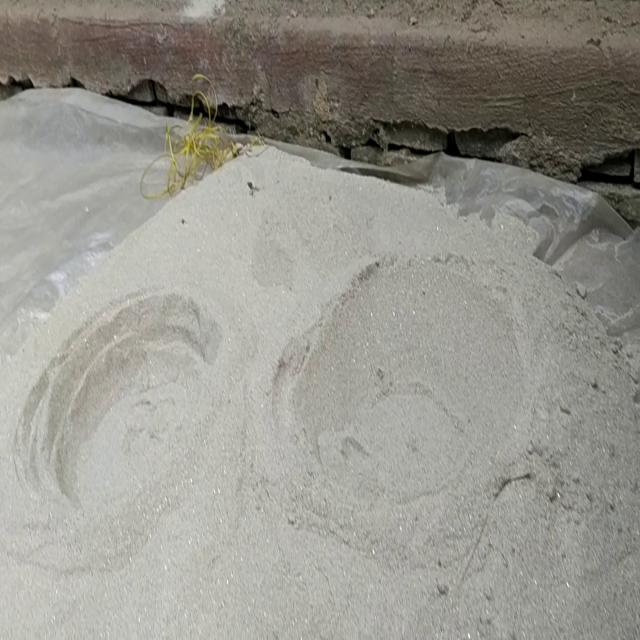C20: (274, 258, 524, 558), (15, 293, 220, 503)
